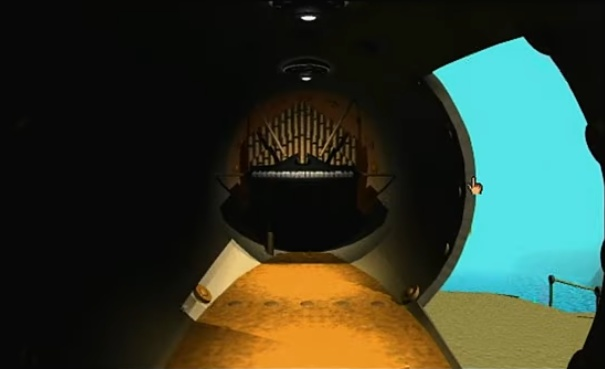Pointer: (465, 174, 486, 198)
